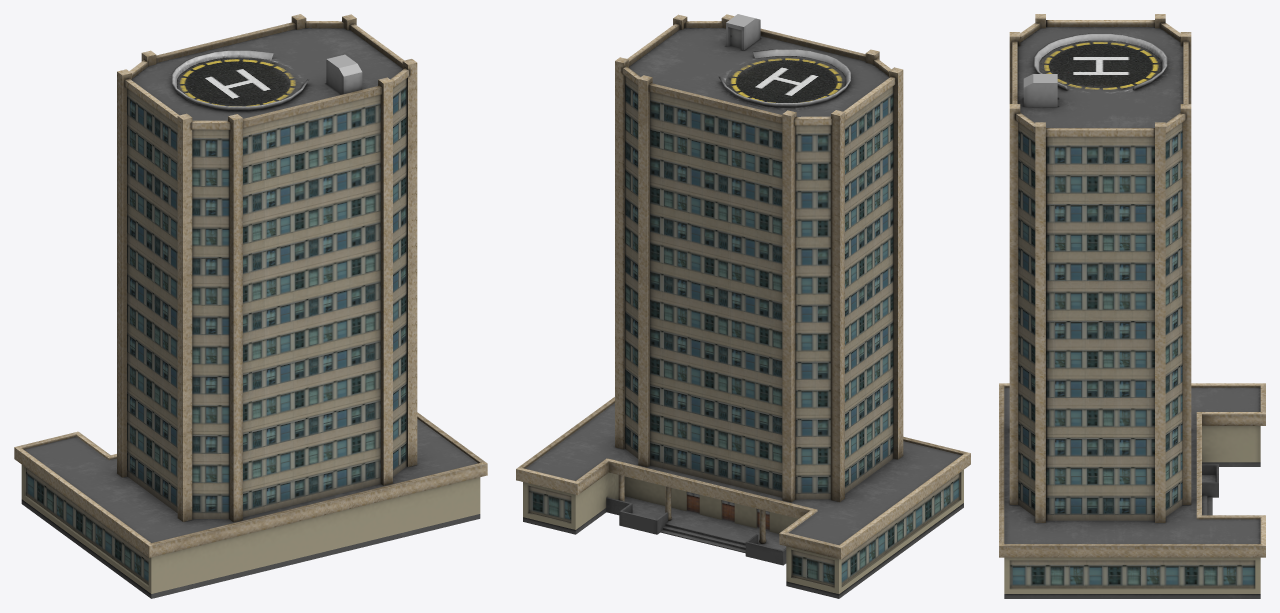
Rendered from asset.gltf.
3 views of the same model, side by side, from view 1: azimuth 30°, elevation 25°; view 2: azimuth 150°, elevation 25°; view 3: azimuth 270°, elevation 25° (orthographic). The views are drawn at different scales.
Parts seen in each view (by area): view 1: Plane.001; view 2: Plane.001; view 3: Plane.001.
Part boxes in pixels (box(x1,y1,x2,y2)): Plane.001: box(14, 14, 487, 598); Plane.001: box(516, 14, 970, 598); Plane.001: box(999, 14, 1265, 598).
Size of the model in its own units: 3610 by 4800 by 2500.
1 material, 1 textured.
